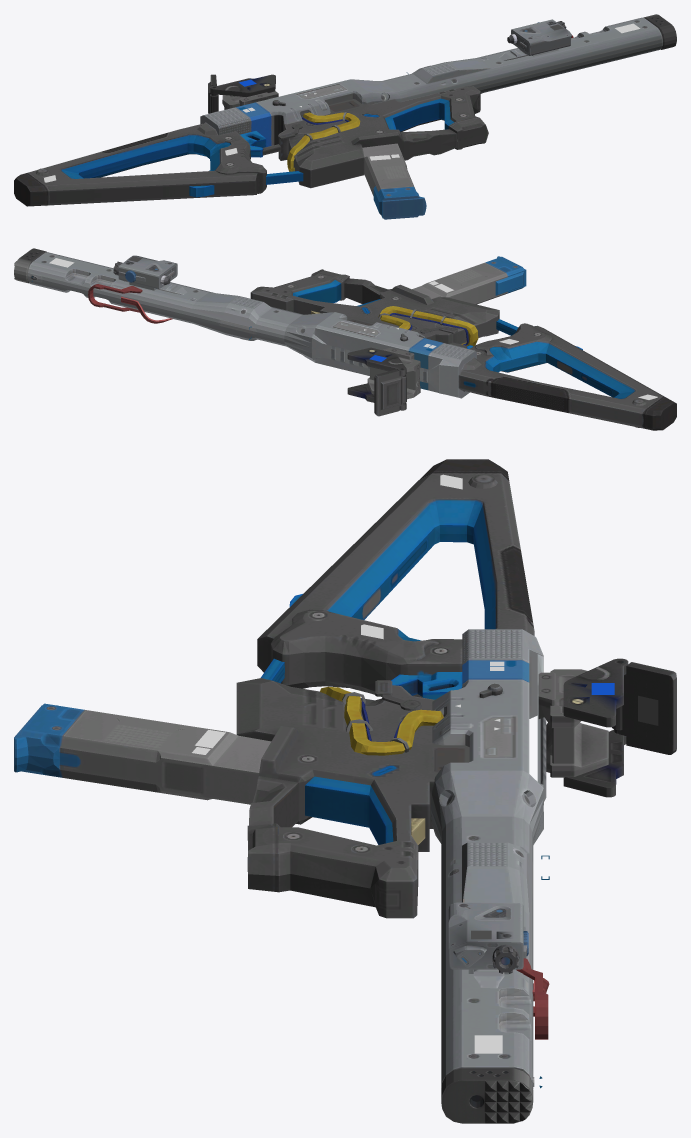
3 views of the same model, one above another, from view 1: azimuth 30°, elevation 25°; view 2: azimuth 150°, elevation 25°; view 3: azimuth 270°, elevation 25° (orthographic). The views are drawn at different scales.
Parts seen in each view (by area): view 1: wp01a_a001c_sm.mo, wp01a_magazine001c_sm.mo, wp01a_scope001c_sm.mo, wp01a_attach001c_sm.mo, wp01a_muzzle001c_sm.mo; view 2: wp01a_a001c_sm.mo, wp01a_scope001c_sm.mo, wp01a_magazine001c_sm.mo, wp01a_attach001c_sm.mo, wp01a_muzzle001c_sm.mo; view 3: wp01a_a001c_sm.mo, wp01a_magazine001c_sm.mo, wp01a_scope001c_sm.mo, wp01a_attach001c_sm.mo, wp01a_muzzle001c_sm.mo.
Part boxes in pixels (x1,y1,x2,y2): wp01a_a001c_sm.mo: (14,17,662,206); wp01a_magazine001c_sm.mo: (362,143,426,219); wp01a_scope001c_sm.mo: (208,74,278,113); wp01a_attach001c_sm.mo: (507,19,571,56); wp01a_muzzle001c_sm.mo: (643,14,676,49); wp01a_a001c_sm.mo: (27,252,676,430); wp01a_scope001c_sm.mo: (347,347,420,416); wp01a_magazine001c_sm.mo: (412,256,526,304); wp01a_attach001c_sm.mo: (113,255,177,290); wp01a_muzzle001c_sm.mo: (14,248,46,283); wp01a_a001c_sm.mo: (236,459,549,1088); wp01a_magazine001c_sm.mo: (14,703,271,804); wp01a_scope001c_sm.mo: (538,658,676,797); wp01a_attach001c_sm.mo: (448,902,528,974); wp01a_muzzle001c_sm.mo: (441,1068,533,1123).
Bounding box in the file's own units: 0.7753 × 0.0588 × 0.3479.
9 materials, 5 textured.
